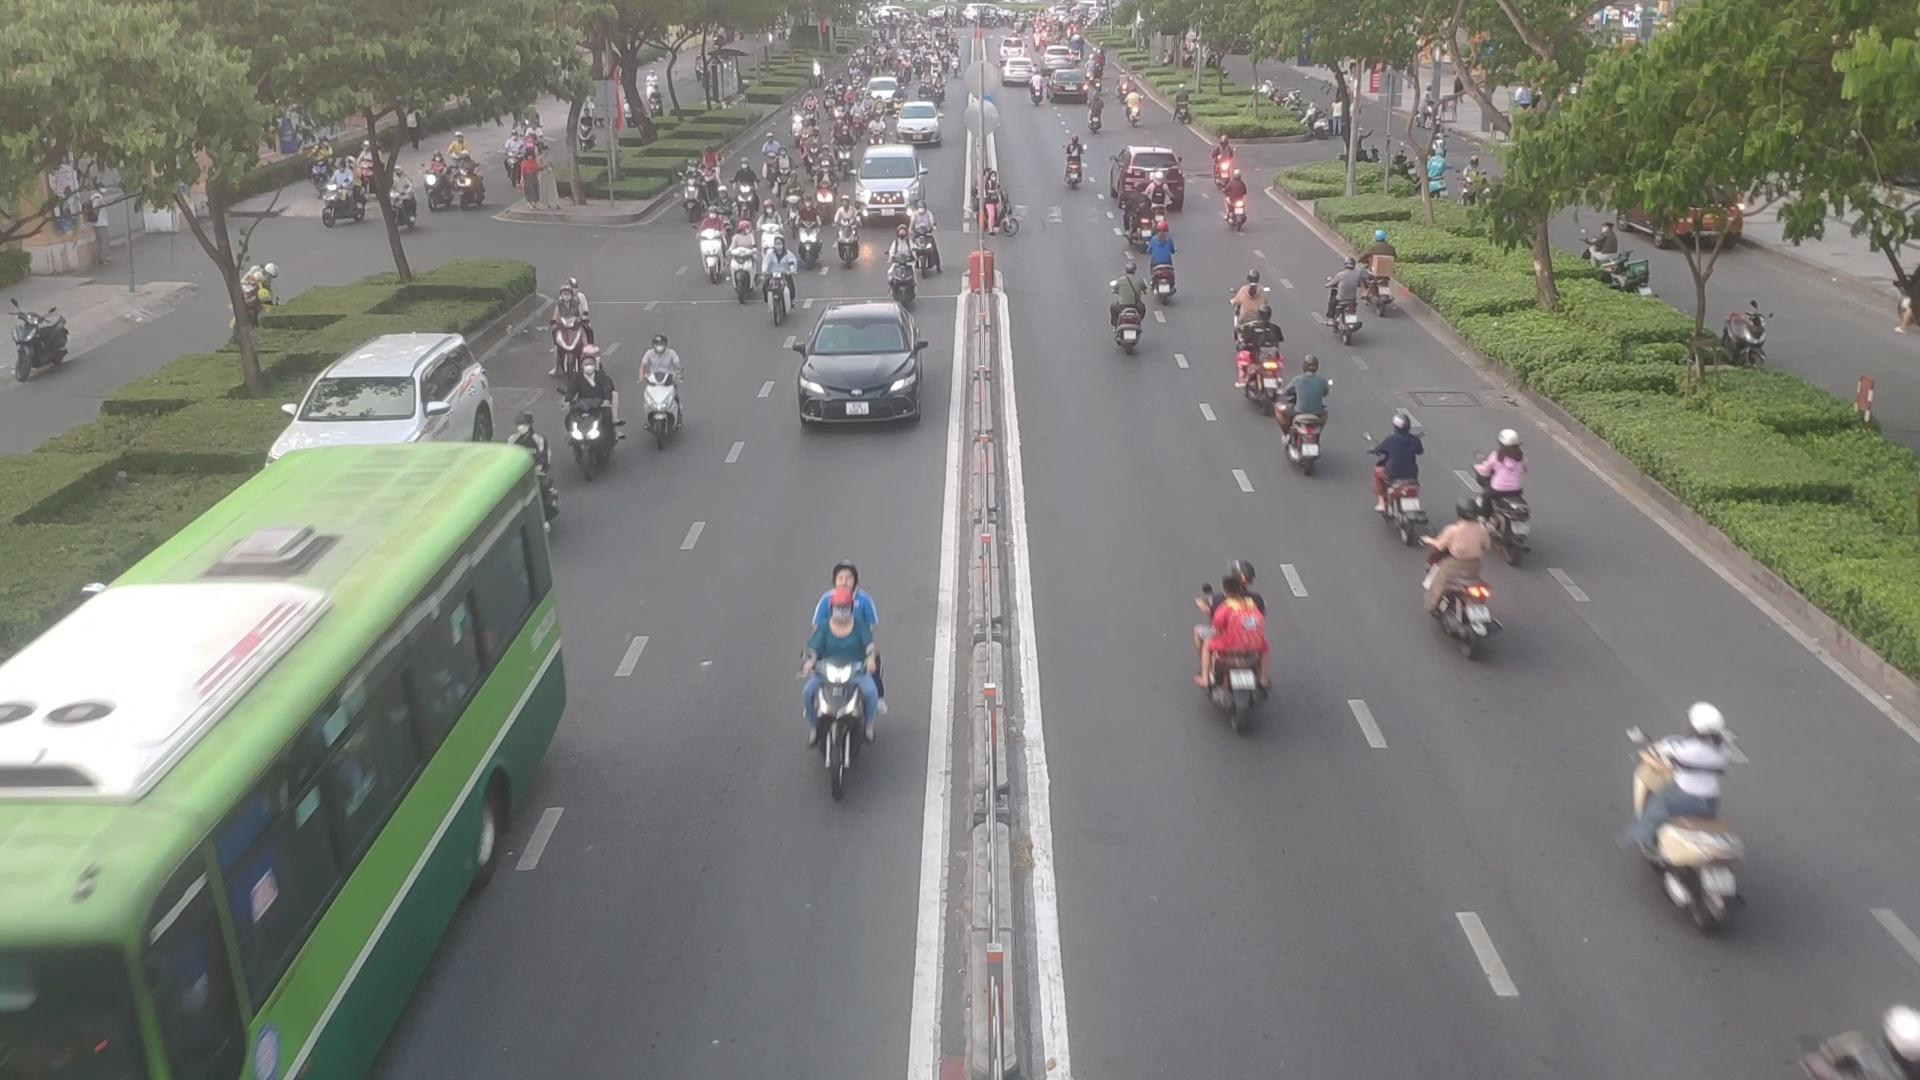bus: (0, 444, 542, 1080)
car: (789, 302, 927, 425)
motorbike: (1625, 703, 1756, 924), (789, 570, 898, 800), (1189, 560, 1288, 728), (1423, 509, 1509, 651), (1778, 1002, 1920, 1080), (1461, 433, 1539, 553), (568, 340, 628, 477), (1375, 415, 1436, 545), (1228, 277, 1287, 388), (636, 336, 695, 440), (1273, 377, 1329, 473), (1102, 268, 1159, 355), (1327, 255, 1371, 344), (887, 208, 942, 276), (971, 175, 1022, 241), (694, 215, 740, 284), (1133, 233, 1178, 295), (1367, 225, 1400, 303), (1058, 146, 1093, 193), (1226, 170, 1249, 233)
